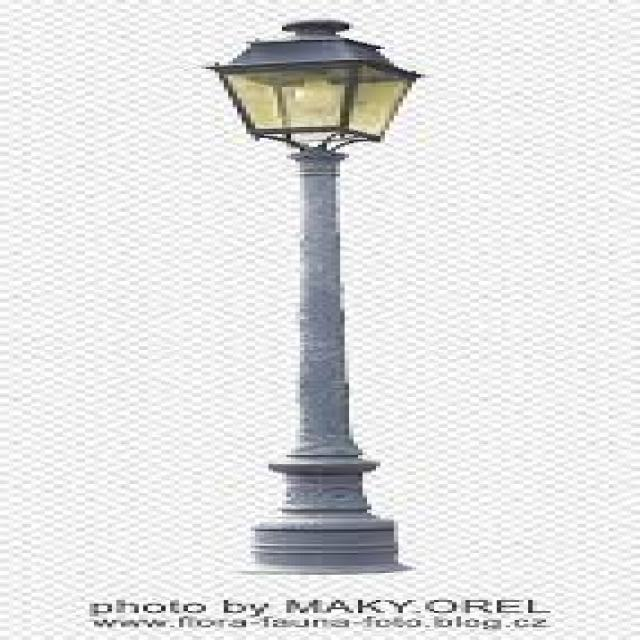Street Light: (202, 14, 426, 576)
